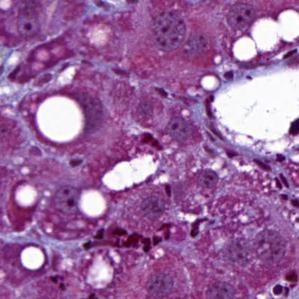ballooning: (207, 35, 295, 168)
